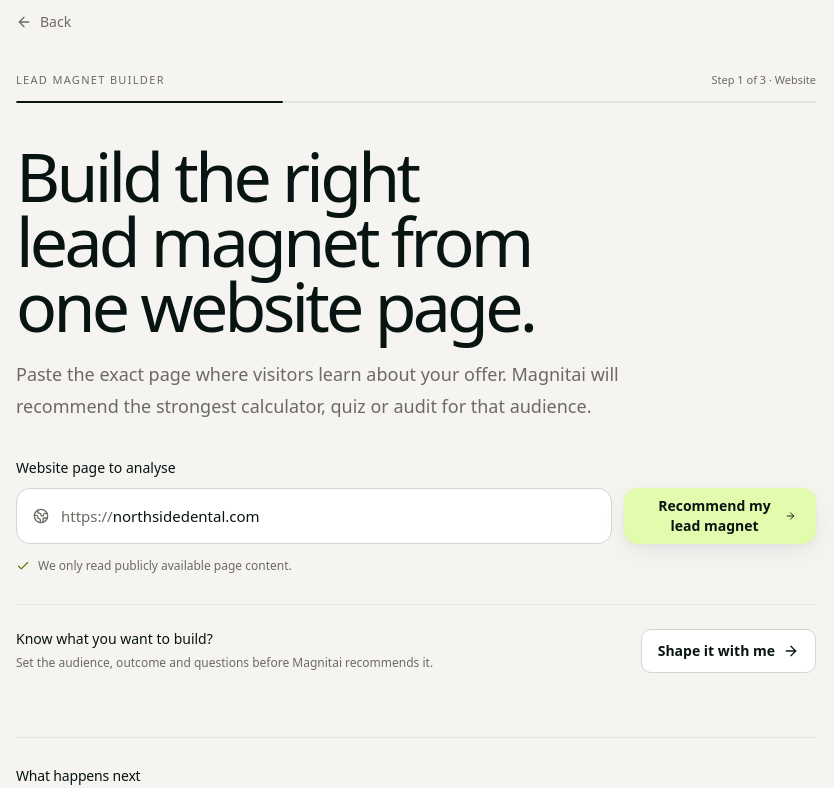
it: CheckoutFlow · AI build › surfaces the reason when the site cannot be read
Click the button "Recommend my lead magnet". click: (720, 516)
box: [624, 488, 816, 544]
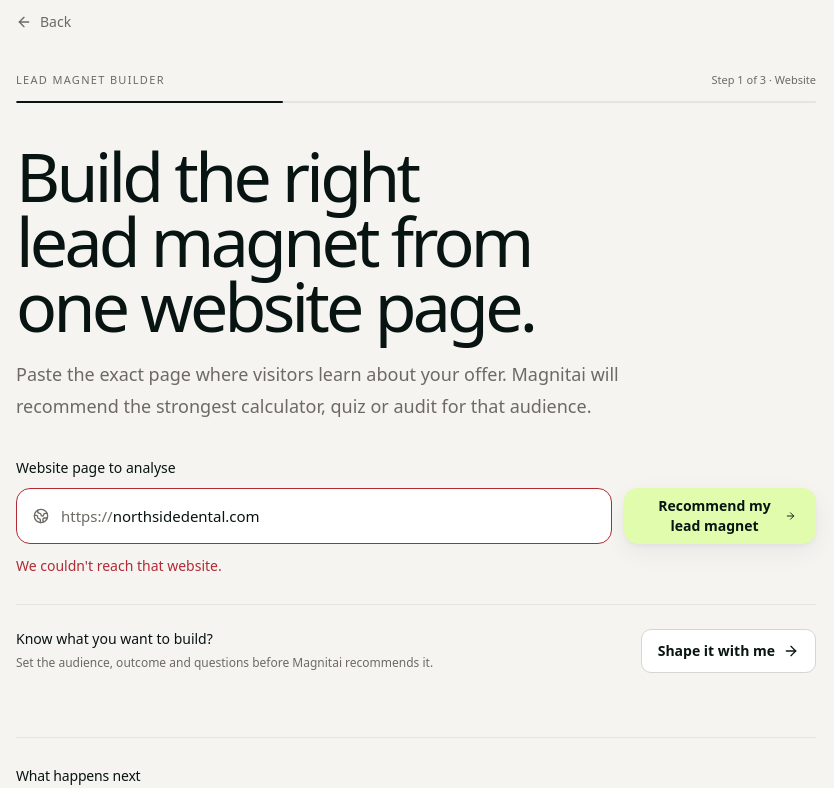
Check: the message reads "We couldn't reach that website.", box [16, 556, 222, 575]
